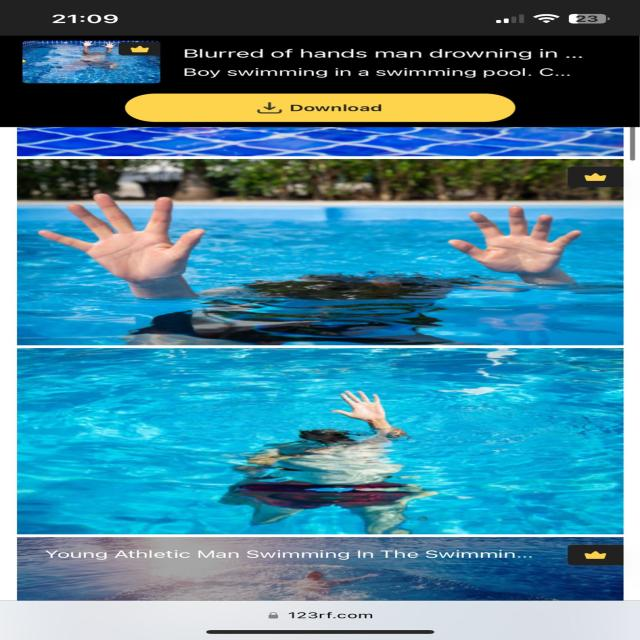Drowning: (47, 188, 580, 312), (227, 389, 431, 522)
